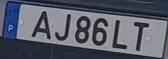6: (91, 17, 108, 47)
8: (74, 15, 90, 44)
A: (29, 10, 51, 40)
J: (53, 14, 71, 42)
L: (111, 19, 128, 49)
T: (132, 21, 149, 52)
